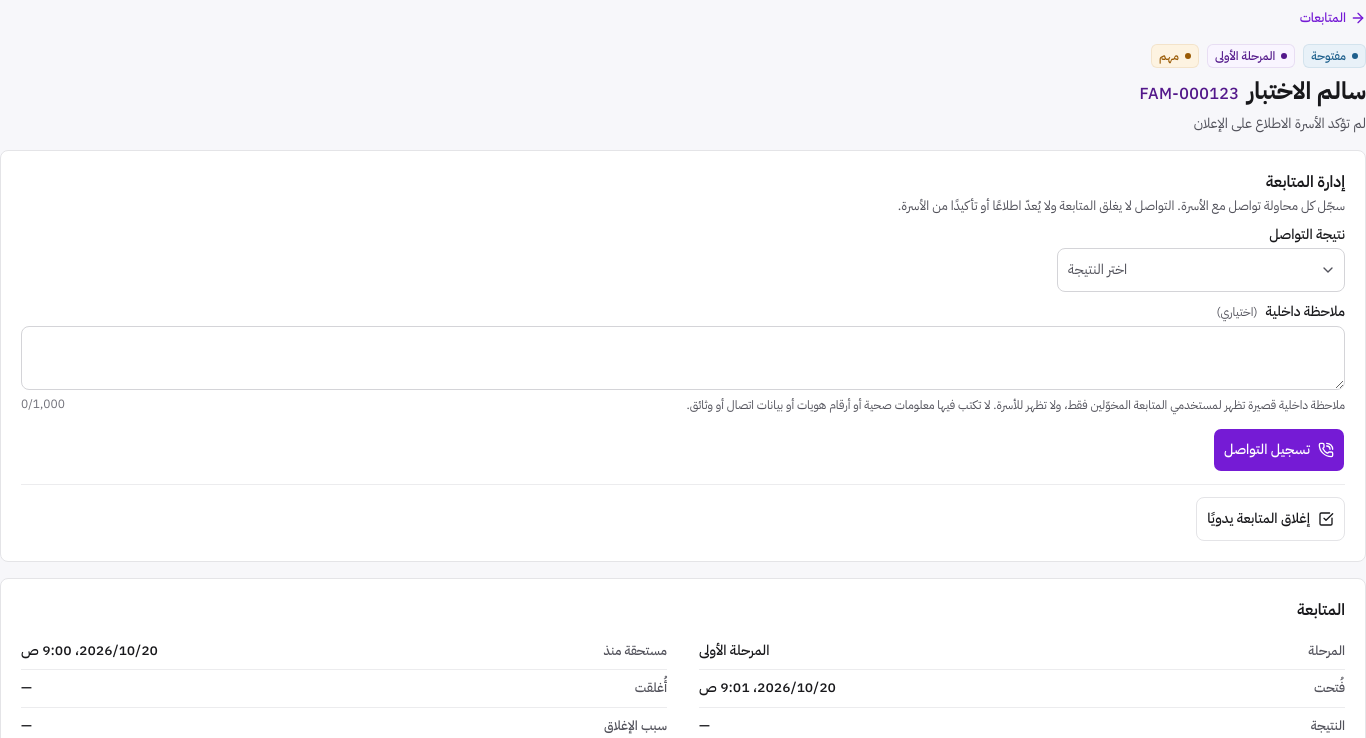
Test: recording a contact › re-sends the SAME reference after a lost response, a 503 or a 429 — never a new one, never automatically
The width and height of the screenshot is (1366, 738).
Click the dropdown named "نتيجة التواصل".
click(1098, 270)  # box [1057,248,1345,292]
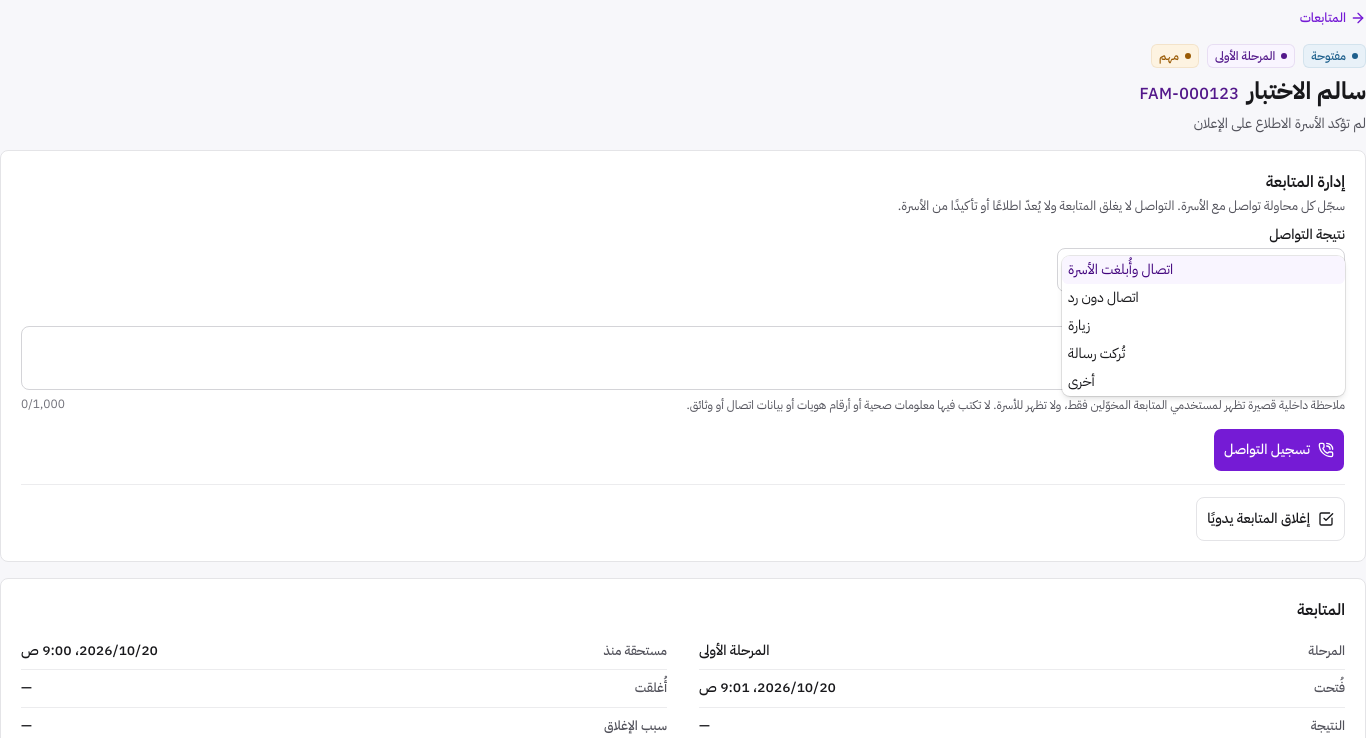
Click the option "زيارة".
click(1079, 326)  # box [1068,315,1090,336]
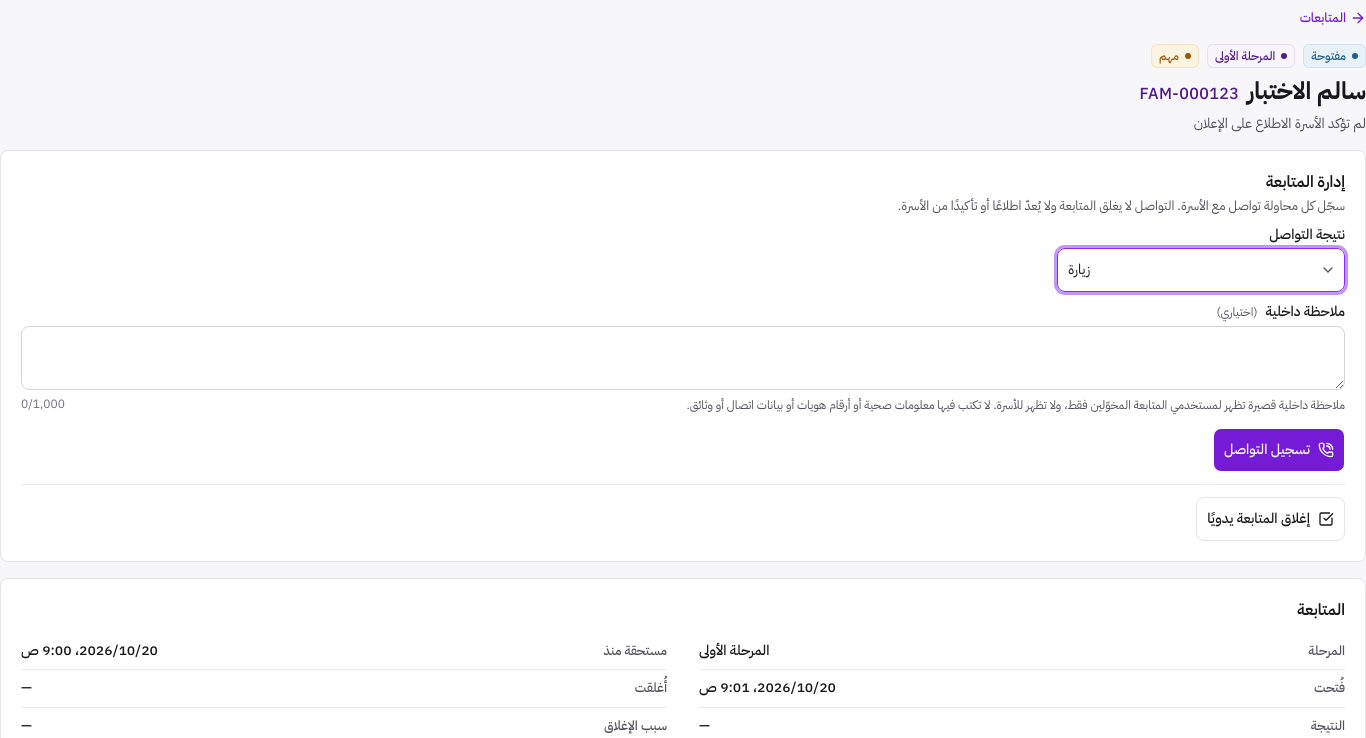
Click the button "تسجيل التواصل".
click(1279, 450)  # box [1213,428,1345,472]
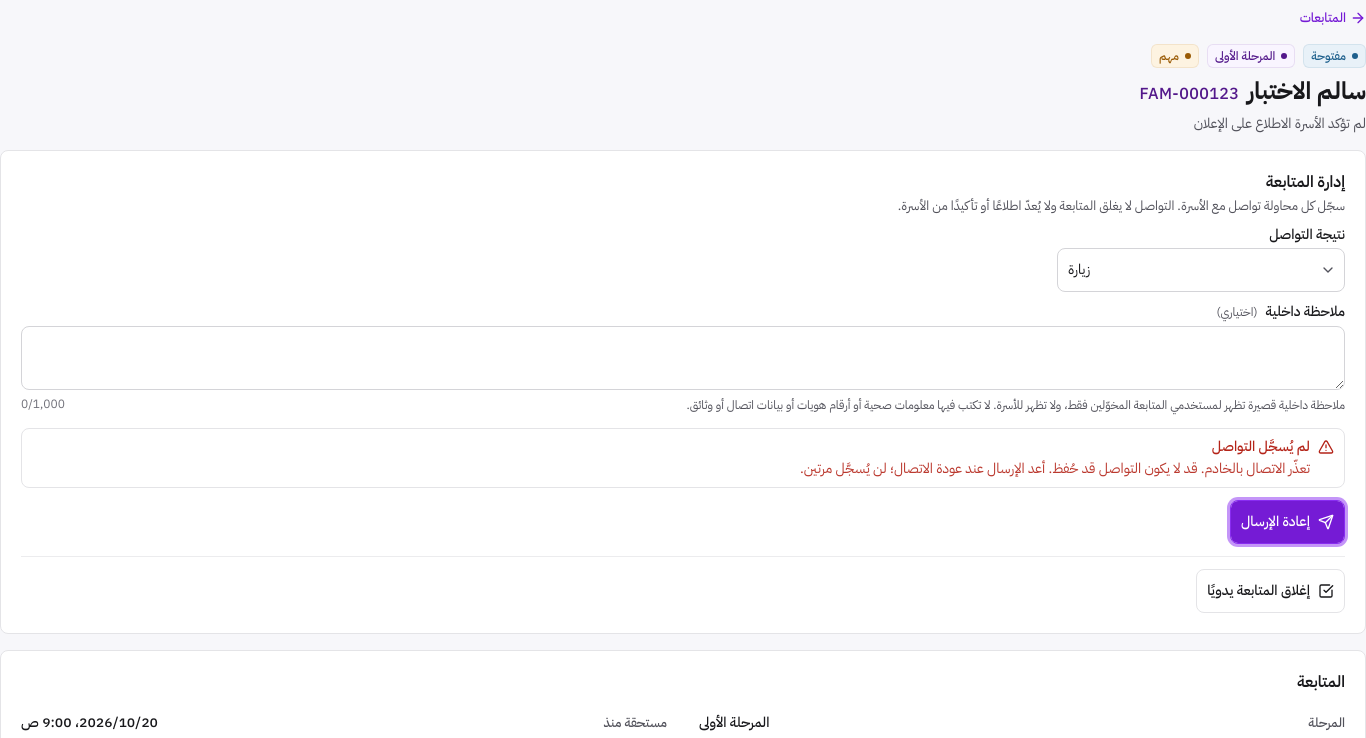
Check: the text "لن يُسجَّل مرتين" is shown, box [800,458,1310,479]
Click the button "إعادة الإرسال".
click(1288, 522)  # box [1230,500,1345,544]
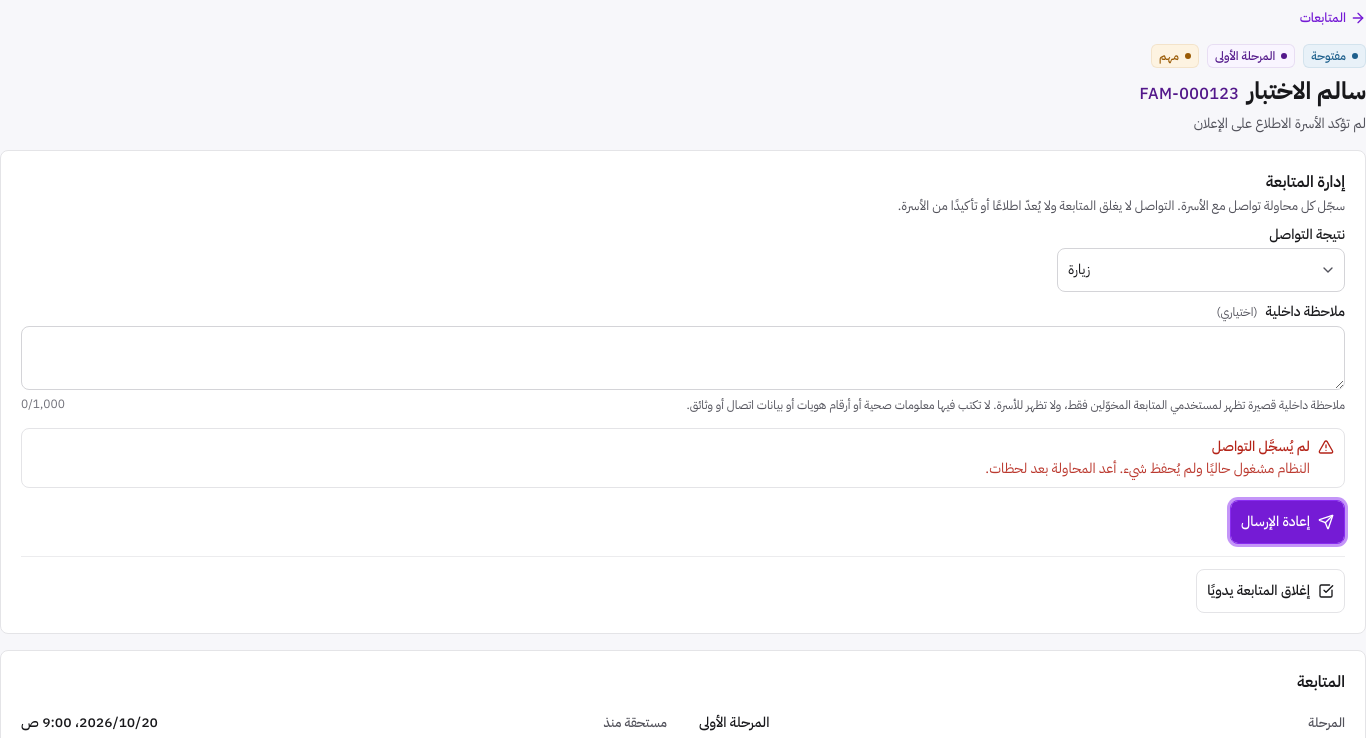
Check: the text "النظام مشغول حاليًا ولم يُحفظ شيء. أعد المحاولة بعد لحظات." is shown, box [985,458,1310,479]
Click the button "إعادة الإرسال".
click(1288, 522)  # box [1230,500,1345,544]
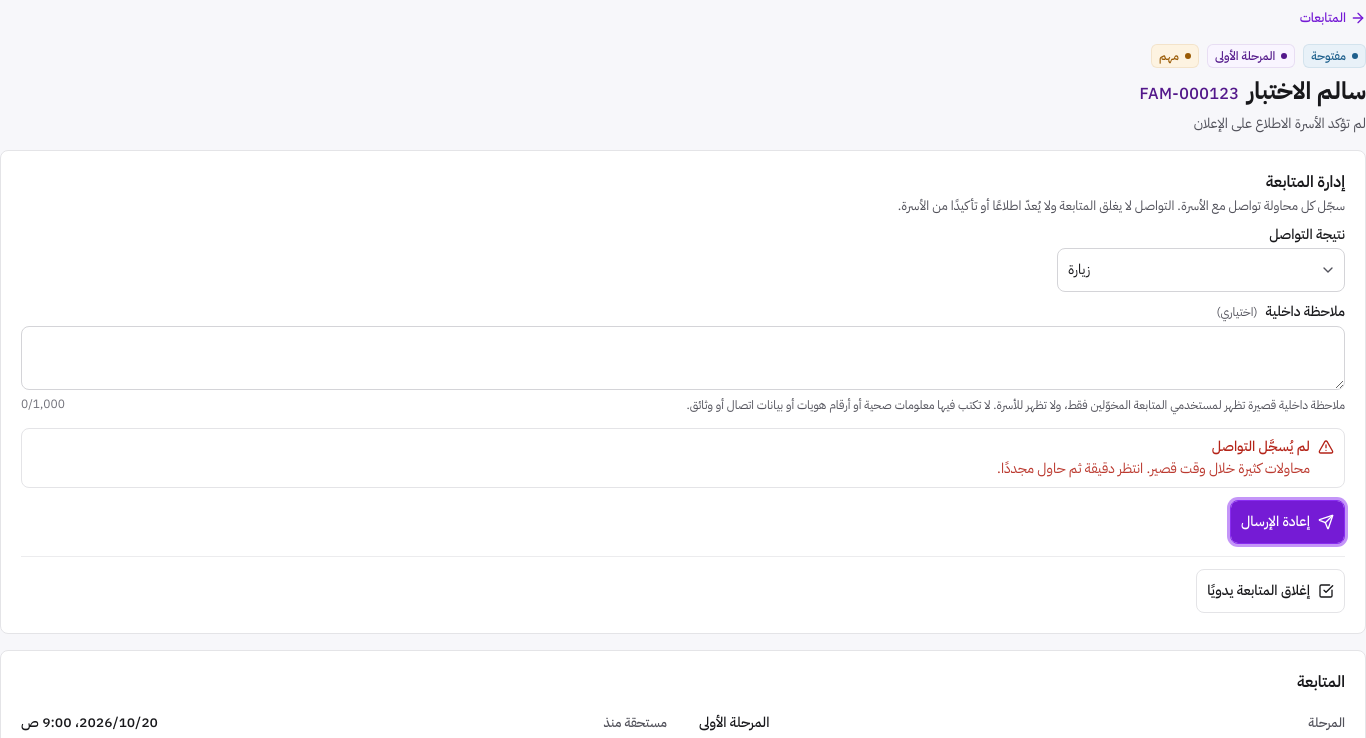
Check: the text "محاولات كثيرة خلال وقت قصير. انتظر دقيقة ثم حاول مجددًا." is shown, box [997,458,1310,479]
Click the button "إعادة الإرسال".
click(1288, 522)  # box [1230,500,1345,544]
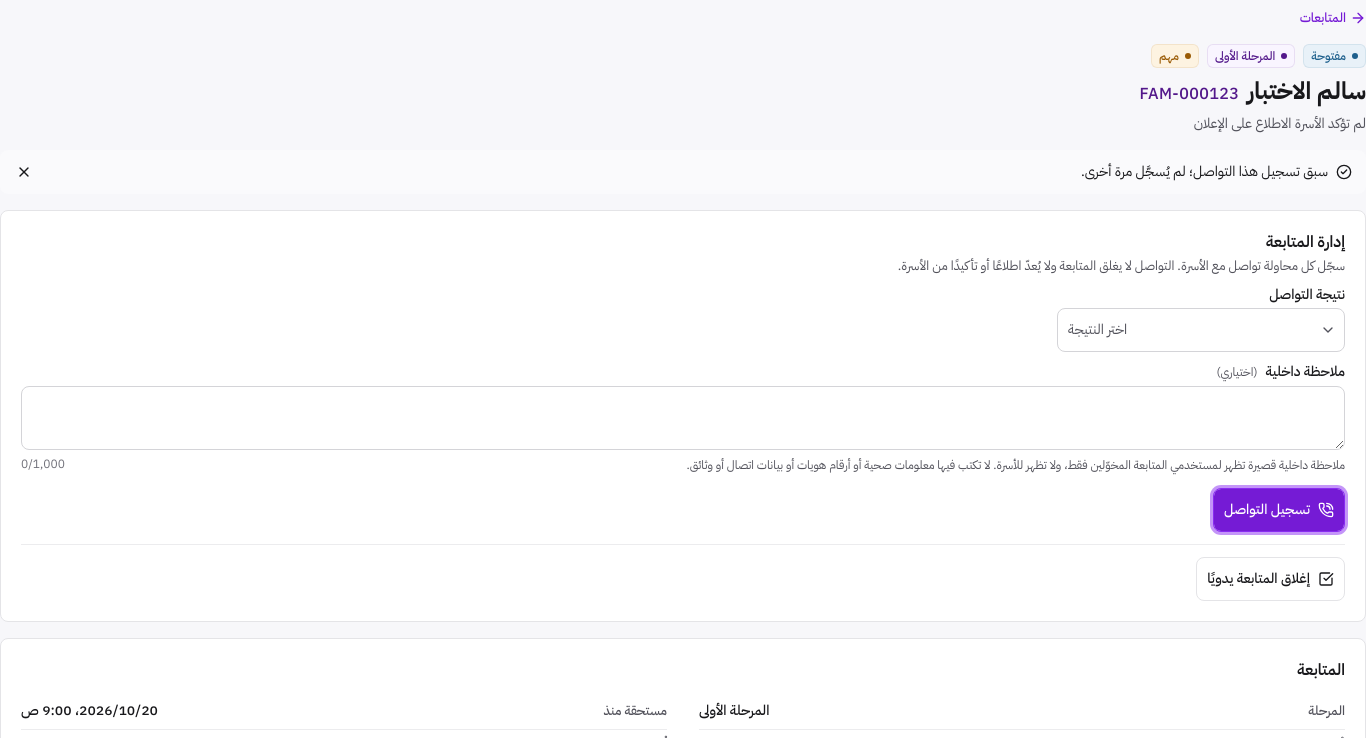
Check: the text "سبق تسجيل هذا التواصل؛ لم يُسجَّل مرة أخرى." is shown, box [1081,161,1328,182]
